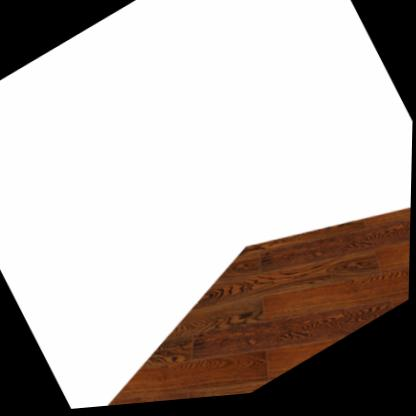Wooden floor: (110, 215, 412, 408)
